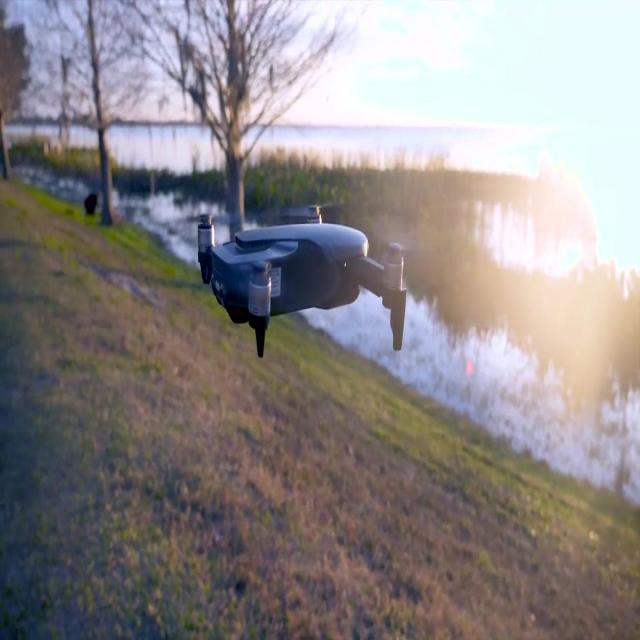UAV: (187, 204, 413, 359)
